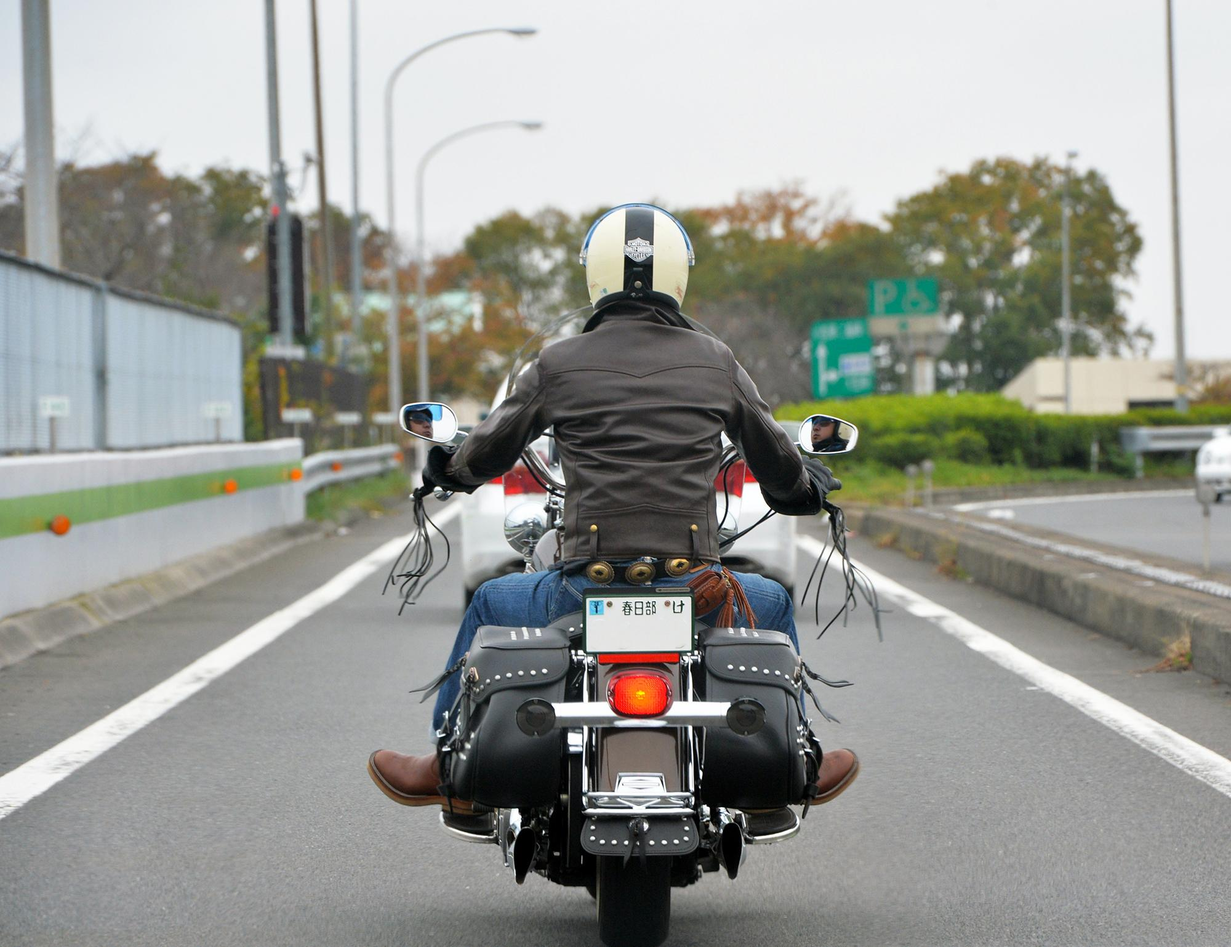helmet: (578, 202, 696, 314)
